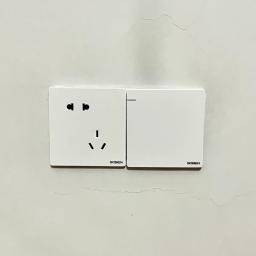outlet: (42, 85, 127, 169)
